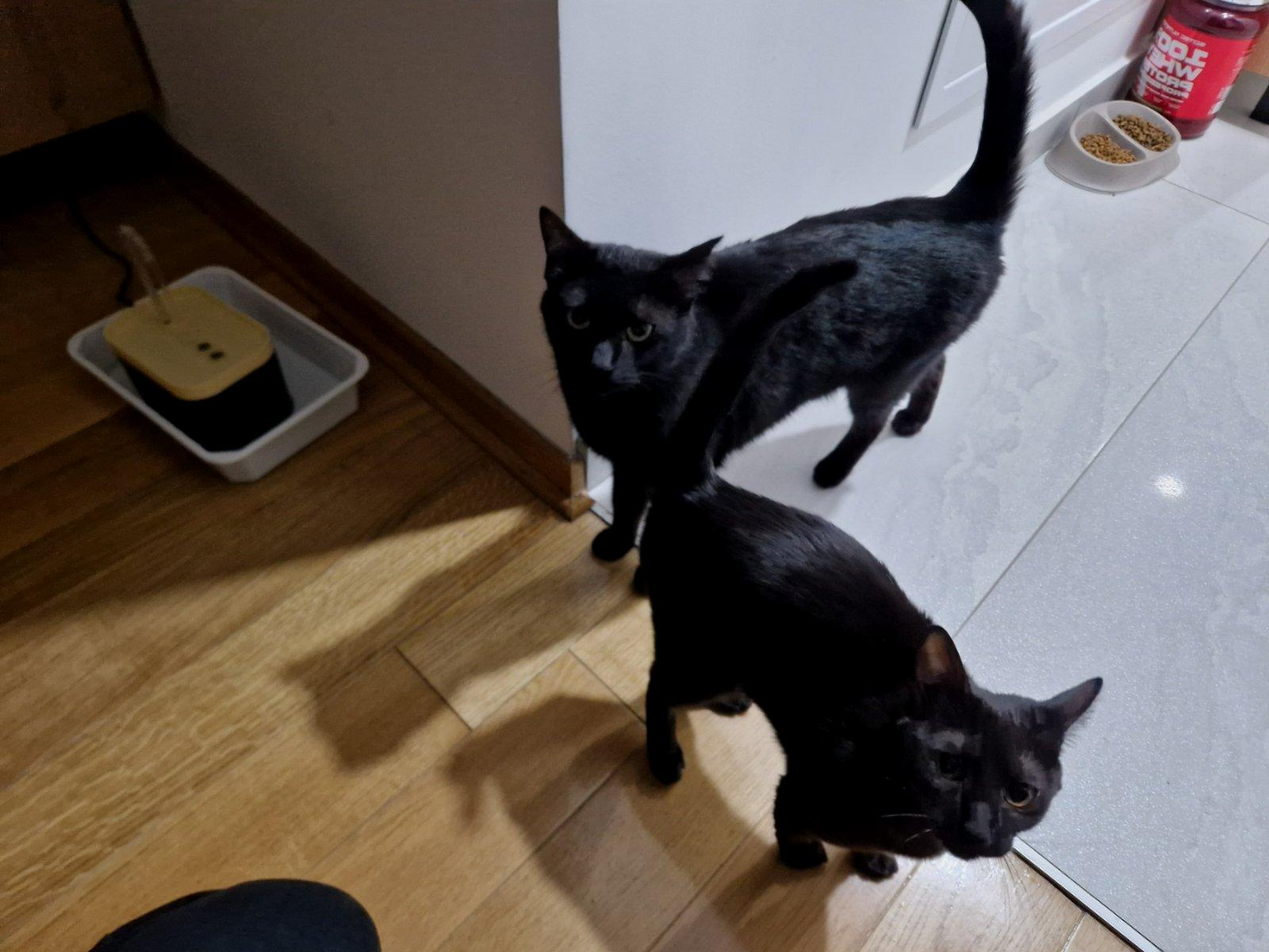macka: (537, 1, 1035, 597), (640, 255, 1098, 884)
